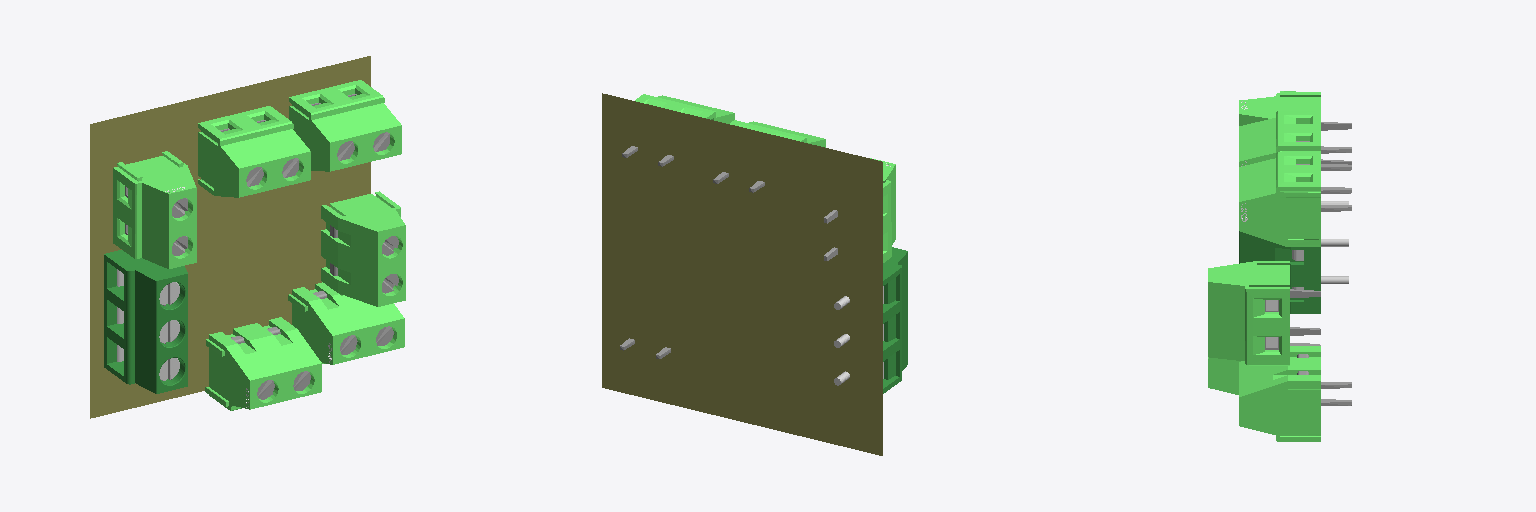
The model's file is OBJ_PCB_labbypsu.obj.
3 renders of one model, left to right at view 1: azimuth 30°, elevation 25°; view 2: azimuth 150°, elevation 25°; view 3: azimuth 270°, elevation 25°, orthographic.
Size of the model in its own units: 156 by 156 by 69.13.